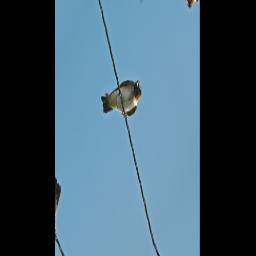Swallow: (99, 45, 145, 149)
